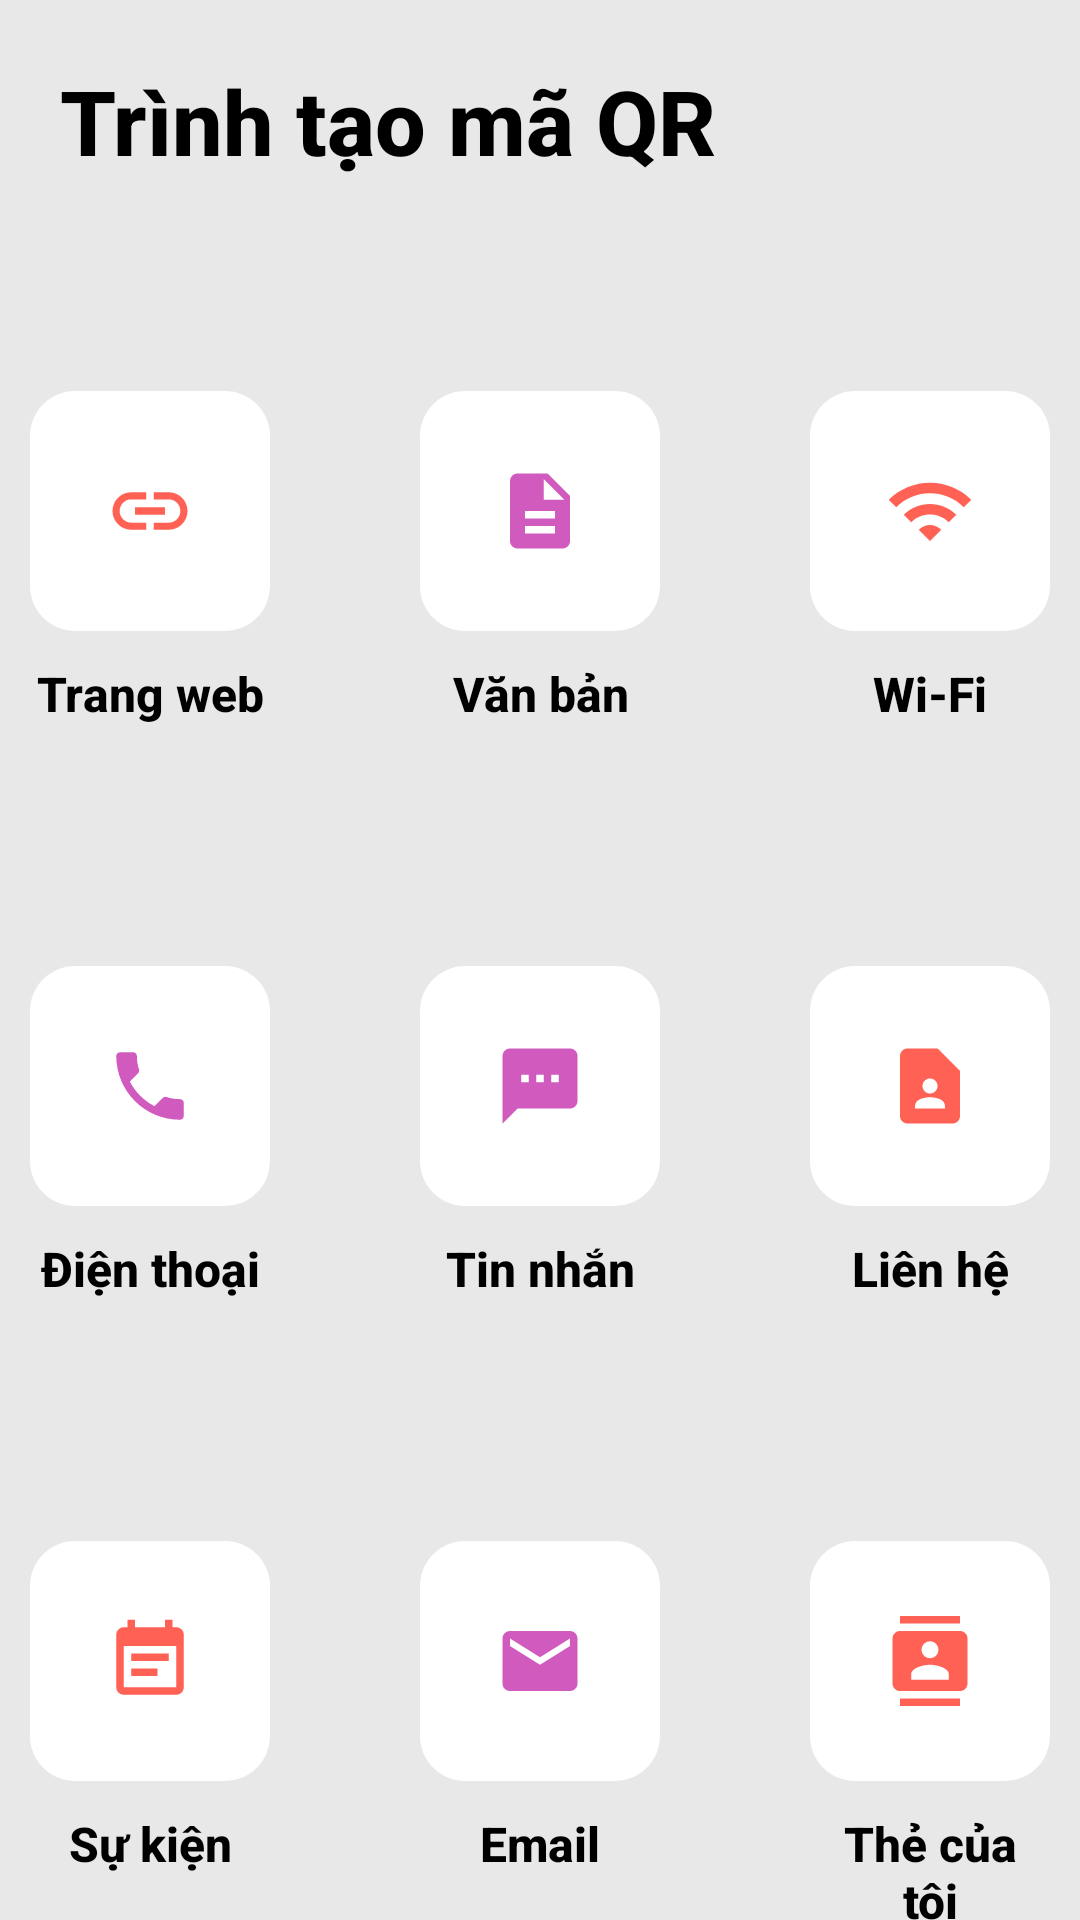

Point at icon controls on the screen. Image size 1080px x 1920px, points as (x=x, y=y).
card: (x=930, y=1661)
contact: (x=930, y=1086)
event: (x=150, y=1657)
link: (x=150, y=511)
text: (x=540, y=511)
